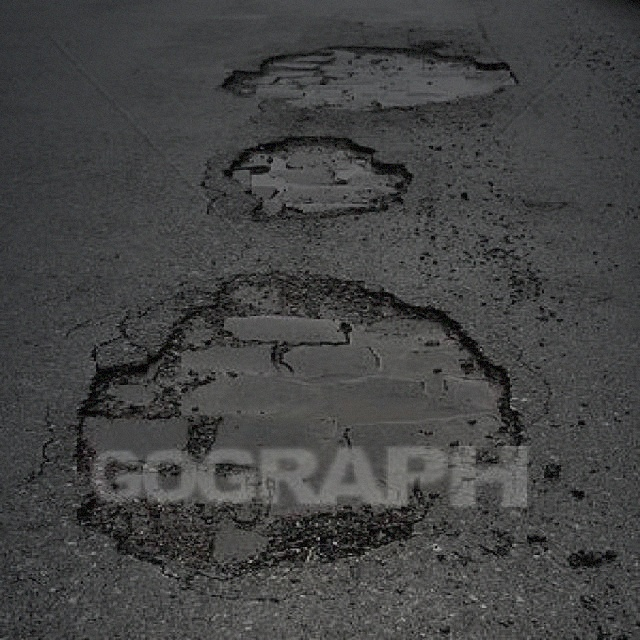pothole: (60, 260, 527, 577), (214, 43, 518, 101), (220, 132, 416, 220)
